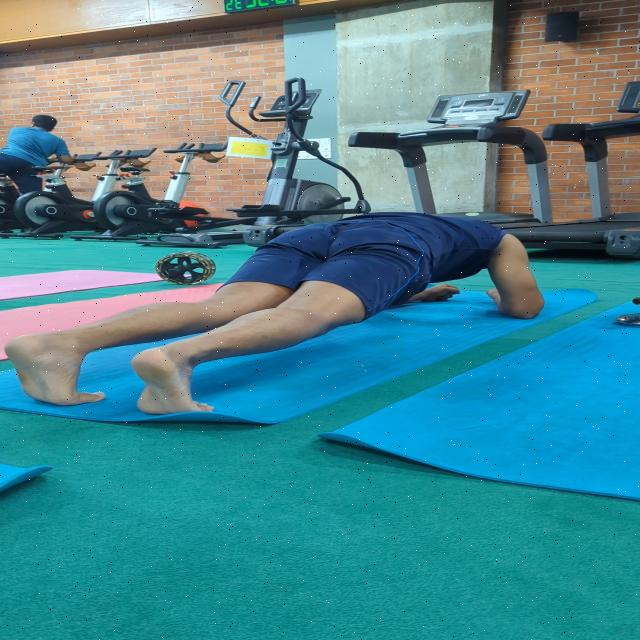Normal_Plunk: (0, 191, 563, 420)
